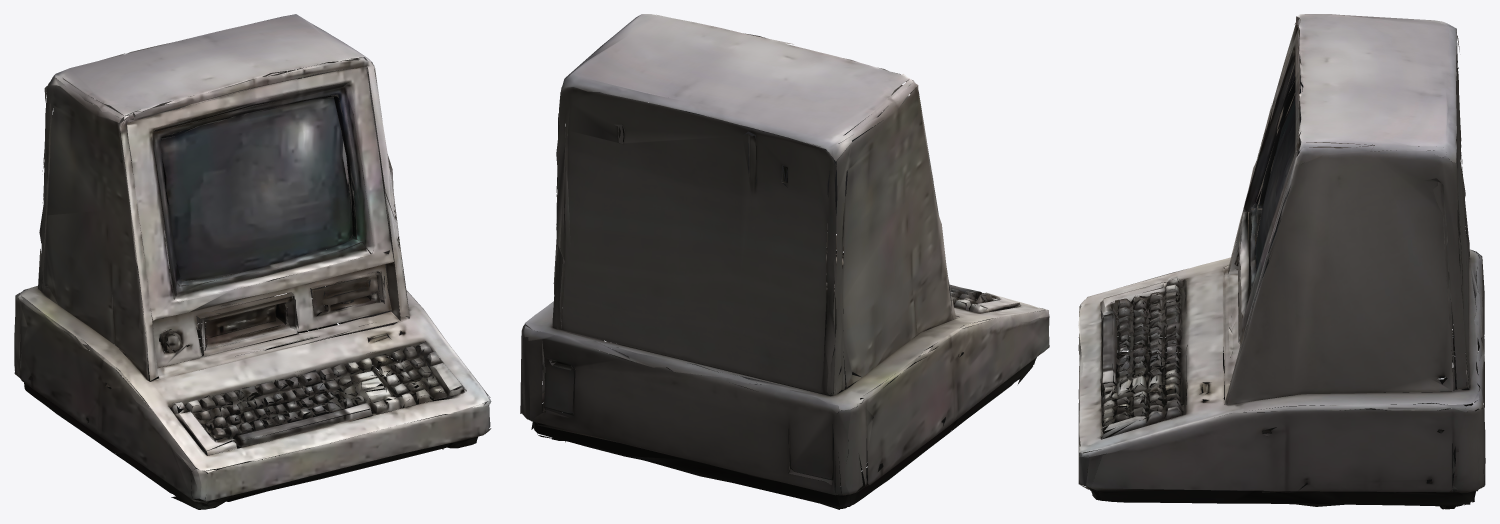
File: crt_computer.glb
3 renders of one model, left to right at view 1: azimuth 30°, elevation 25°; view 2: azimuth 150°, elevation 25°; view 3: azimuth 270°, elevation 25°, orthographic. The views are drawn at different scales.
Visible parts, largest first — view 1: crt_computer; view 2: crt_computer; view 3: crt_computer.
Part boxes in pixels (bbox=[...]): crt_computer: bbox=[14, 14, 491, 509]; crt_computer: bbox=[520, 14, 1049, 509]; crt_computer: bbox=[1078, 14, 1485, 509].
Bounding box in the file's own units: 0.4778 × 0.5 × 0.5006.
1 material, 1 textured.
